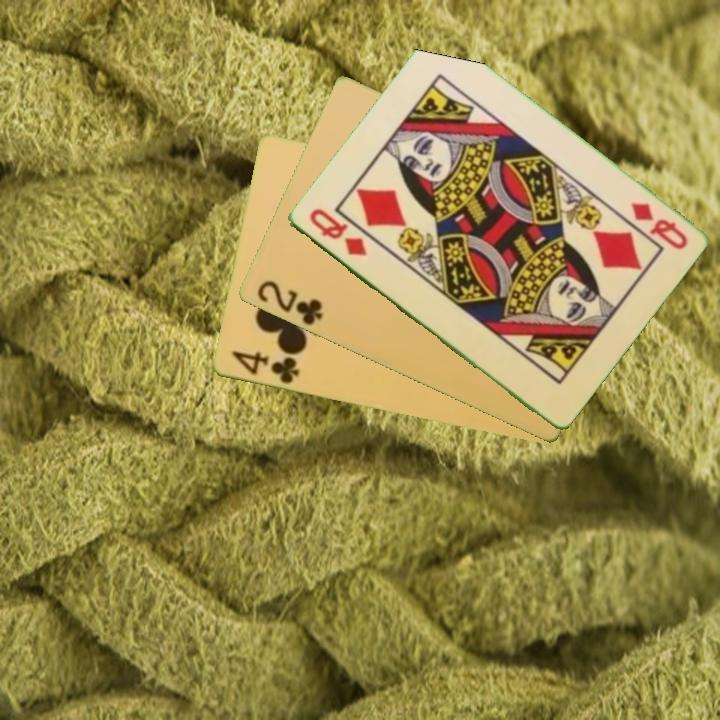2c: (253, 277, 325, 329)
4c: (227, 347, 301, 388)
Qd: (626, 198, 690, 253), (305, 205, 369, 259)
